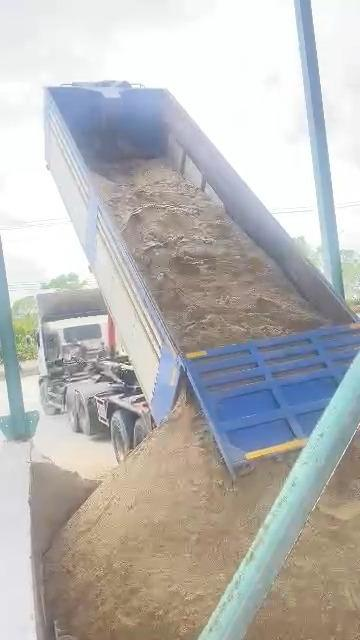sand: (45, 405, 288, 639), (93, 159, 329, 351), (248, 440, 360, 639), (31, 458, 97, 554)
